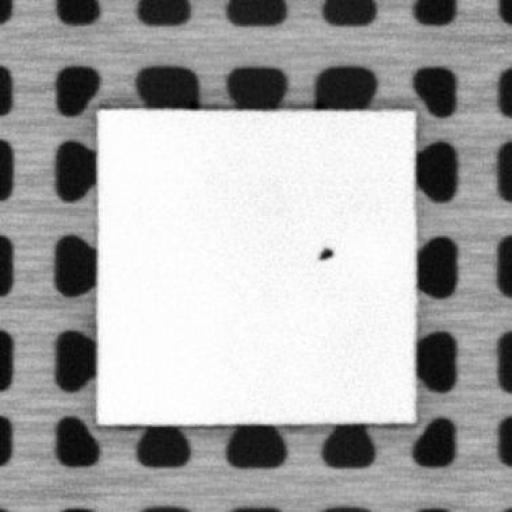DIE_INK: (314, 243, 333, 258)
